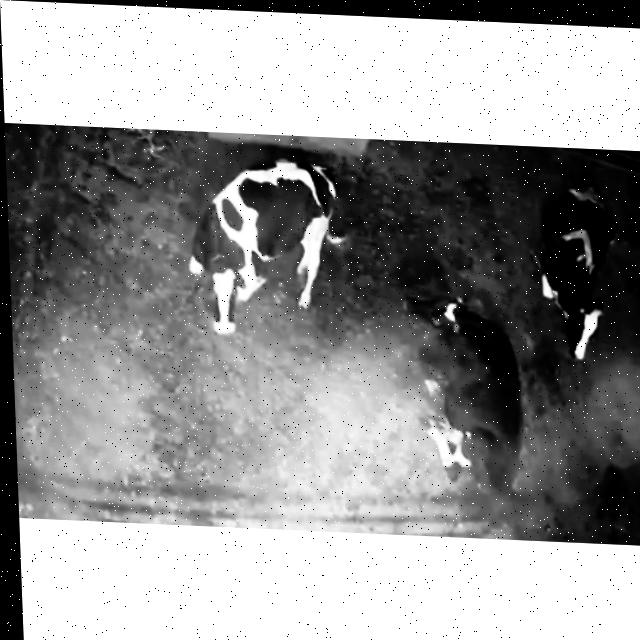lay: (165, 151, 363, 344), (393, 280, 529, 504), (528, 169, 629, 403)
